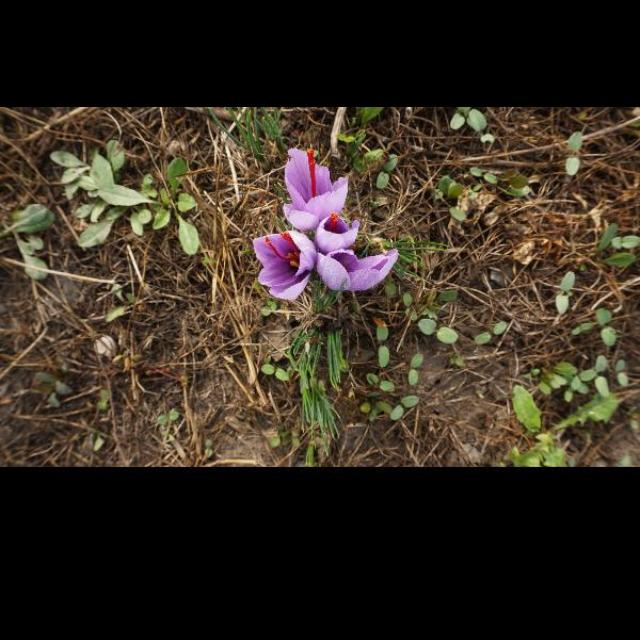flower: (284, 148, 350, 230), (254, 232, 318, 300), (314, 248, 398, 294), (314, 213, 360, 250)
